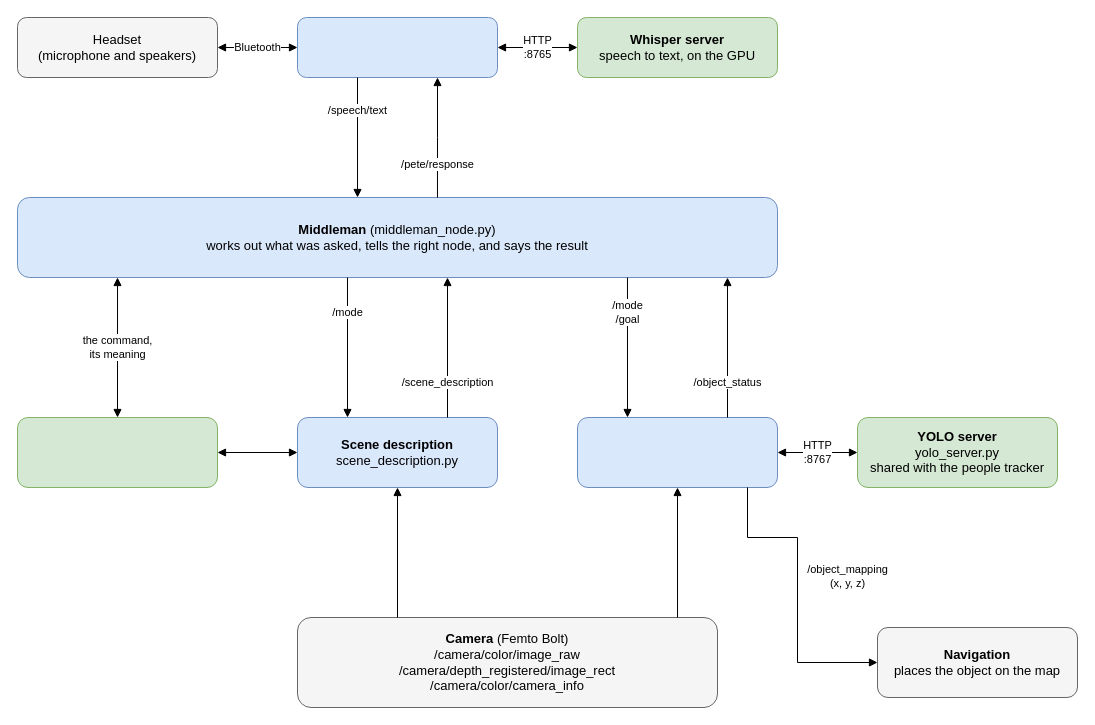
This 1095x725 diagram has some shape labels left out. Each missing label, with the centre of its shape:
Language model Claude Haiku, or the local model in Ollama: point 117,452
Object detection object_detection.py: point 677,452
Voice voice.py: point 397,47
